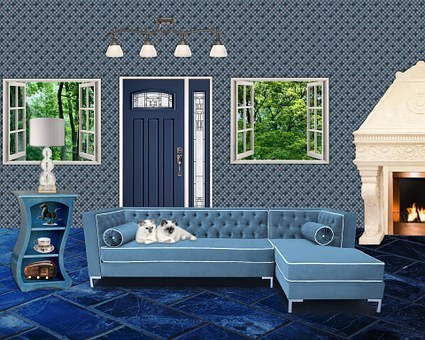cat: (153, 215, 198, 245), (132, 217, 157, 245)
sofa: (80, 198, 388, 317)
